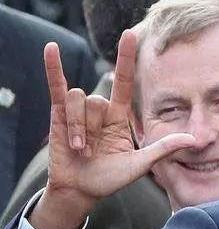back: (39, 26, 194, 196)
